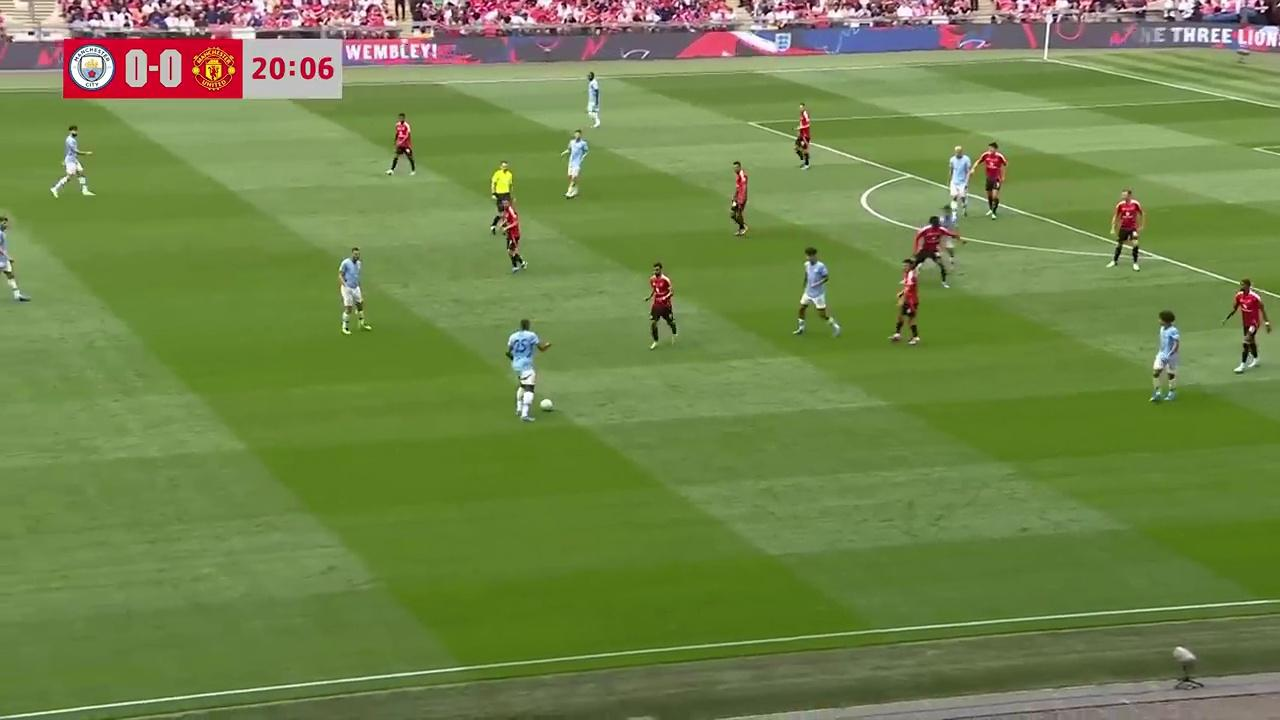ball: (539, 396, 553, 411)
player: (1220, 278, 1272, 372), (506, 318, 551, 421), (792, 247, 840, 337), (49, 125, 95, 199), (1106, 188, 1145, 270), (337, 247, 371, 335), (971, 141, 1008, 219), (644, 261, 677, 348), (1149, 310, 1180, 402), (909, 212, 949, 283), (889, 259, 921, 346), (933, 212, 965, 287), (0, 214, 27, 301), (497, 198, 526, 273), (946, 144, 974, 221), (560, 129, 589, 199), (387, 112, 416, 176), (727, 161, 749, 236), (793, 103, 812, 170), (586, 71, 601, 127)
referee: (490, 160, 513, 231)
